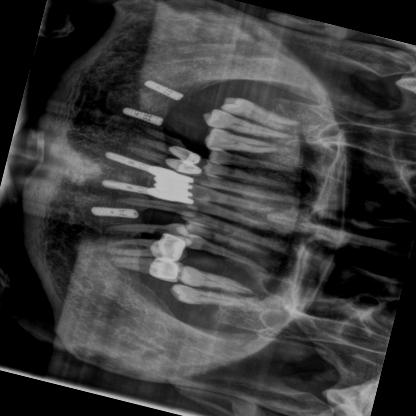ITI: (137, 77, 185, 102), (98, 176, 149, 198), (119, 106, 167, 127), (104, 152, 152, 172), (86, 205, 142, 220)
